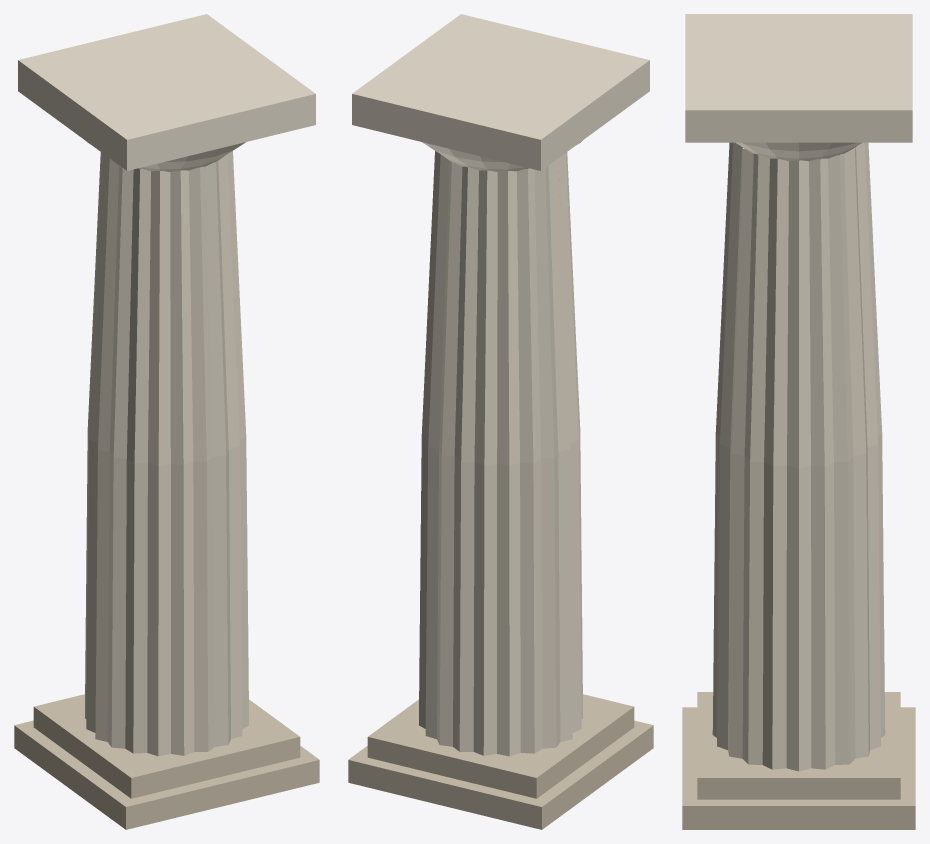
Rendered from greek-column.glb.
3 views of the same model, side by side, from view 1: azimuth 30°, elevation 25°; view 2: azimuth 150°, elevation 25°; view 3: azimuth 270°, elevation 25° (orthographic). The views are drawn at different scales.
Visible parts, largest first — view 1: greek-column; view 2: greek-column; view 3: greek-column.
Boxes of the visible parts, x1,y1,x2,y2 form: greek-column: (14,14,319,829); greek-column: (348,14,653,829); greek-column: (682,14,915,829).
Bounding box in the file's own units: 1.95 × 6.62 × 1.95.
